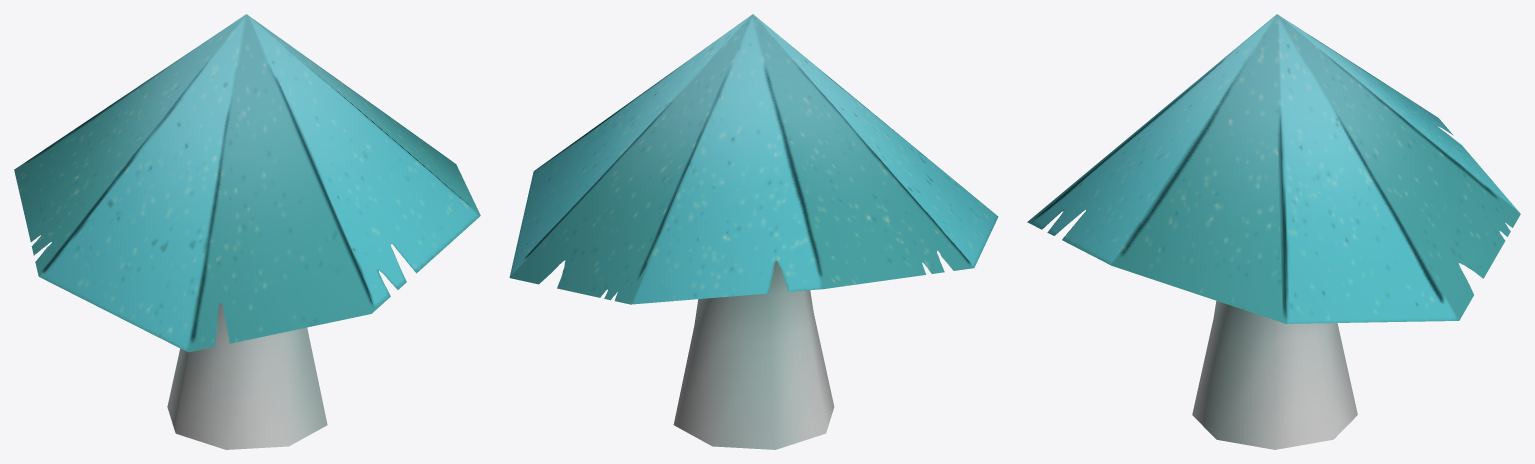
Rendered from BG1-8Boss.fbx.
3 views of the same model, side by side, from view 1: azimuth 30°, elevation 25°; view 2: azimuth 150°, elevation 25°; view 3: azimuth 270°, elevation 25° (orthographic).
Visible parts, largest first — view 1: Object001; view 2: Object001; view 3: Object001.
Boxes of the visible parts, left/top/right/bottom form: Object001: left=14, top=14, right=480, bottom=449; Object001: left=509, top=14, right=998, bottom=449; Object001: left=1027, top=14, right=1520, bottom=449.
Size of the model in its own units: 120 by 108 by 120.
1 material, 1 textured.
